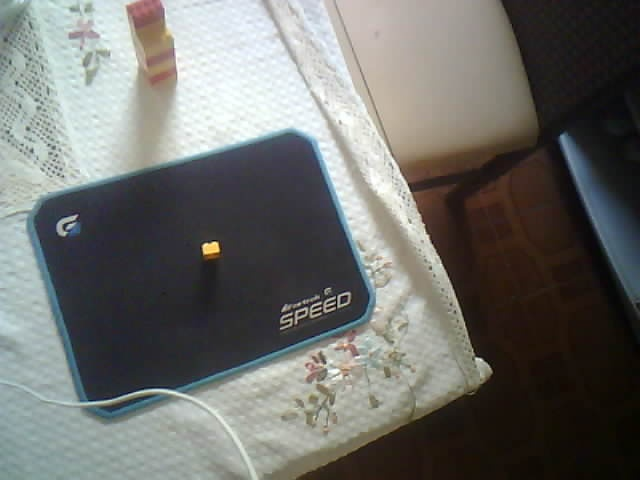lego: (125, 1, 178, 85), (199, 240, 222, 261)
